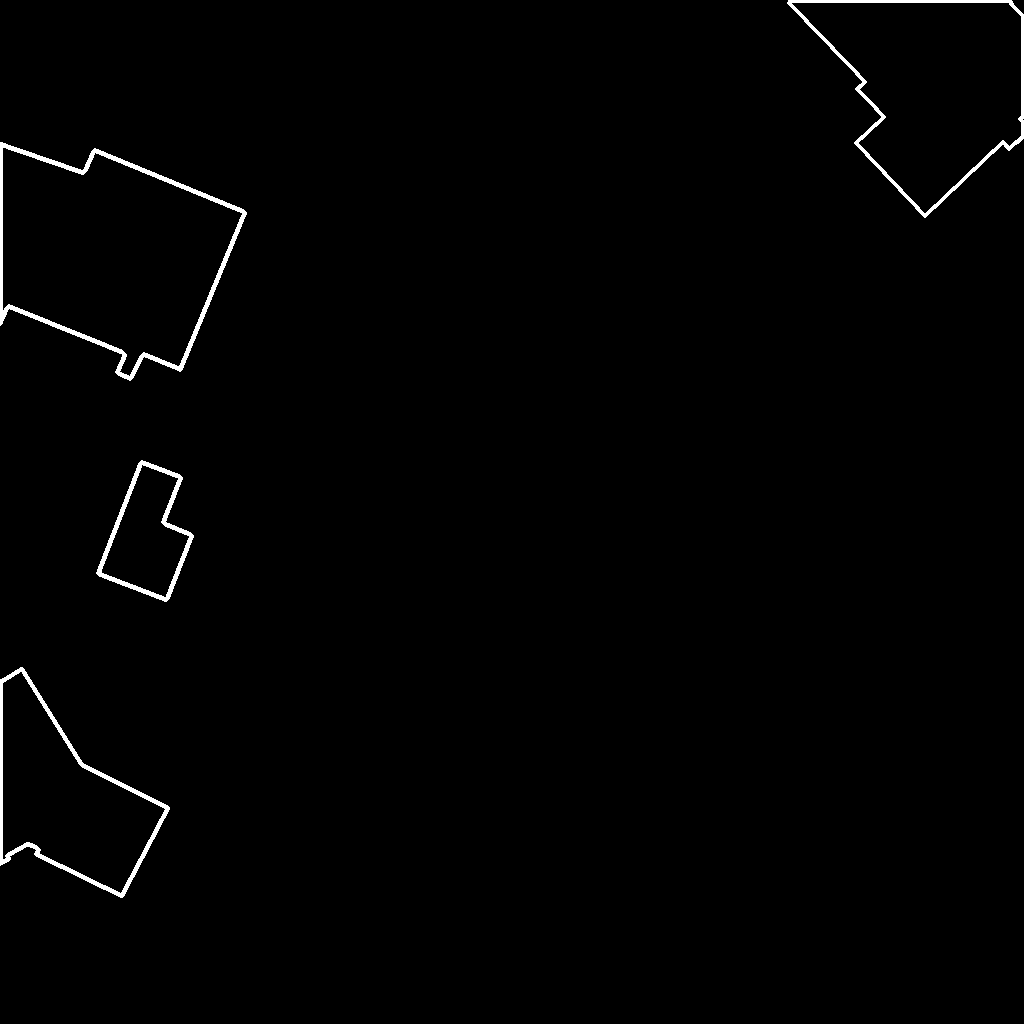building: (0, 144, 246, 380), (789, 0, 1024, 217), (0, 669, 169, 897), (98, 462, 193, 601)
